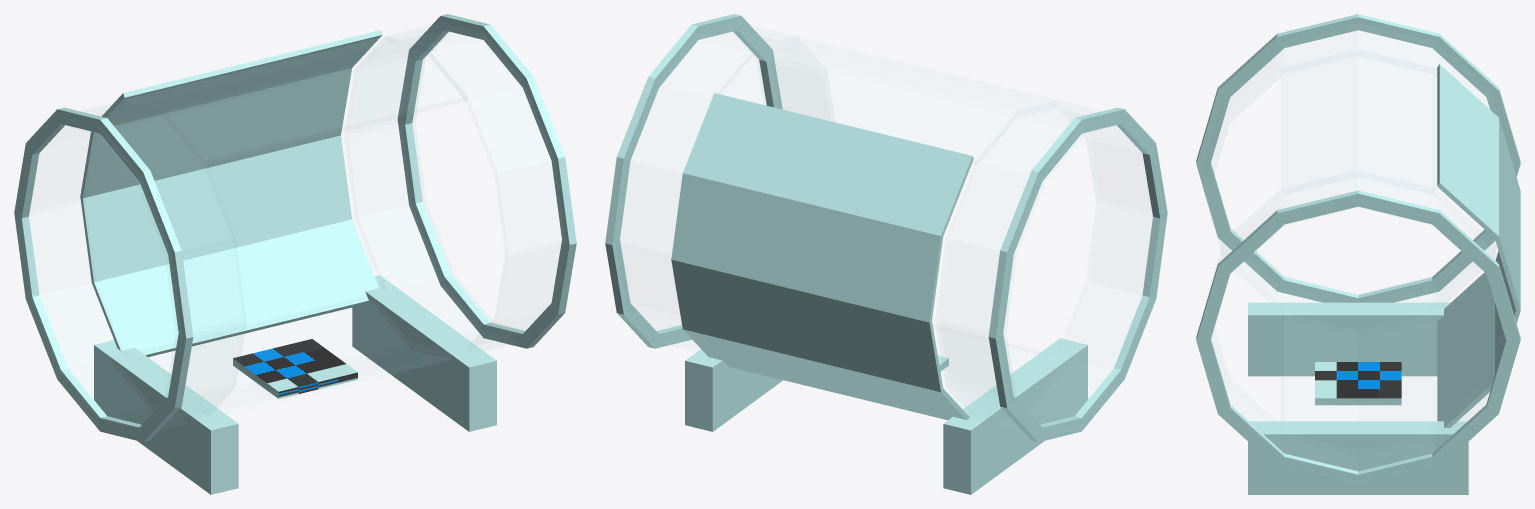
Rendered from tube_station_dispenser.glb.
3 renders of one model, left to right at view 1: azimuth 30°, elevation 25°; view 2: azimuth 150°, elevation 25°; view 3: azimuth 270°, elevation 25°, orthographic. The views are drawn at different scales.
Visible parts, largest first — view 1: Boarding_Door_back, Station_Supports, End_Rim_-0, End_Rim_0, Pod_Materializer; view 2: Boarding_Door_back, Station_Supports, End_Rim_-0, End_Rim_0; view 3: Station_Supports, Boarding_Door_back, End_Rim_0, End_Rim_-0, Pod_Materializer.
Part boxes in pixels (x1,y1,x2,y2): Boarding_Door_back: [80, 30, 382, 357]; Station_Supports: [94, 275, 496, 494]; End_Rim_-0: [14, 107, 193, 442]; End_Rim_0: [397, 14, 576, 348]; Pod_Materializer: [233, 339, 357, 398]; Boarding_Door_back: [671, 93, 973, 420]; Station_Supports: [685, 338, 1087, 494]; End_Rim_-0: [988, 107, 1167, 442]; End_Rim_0: [605, 14, 782, 348]; Station_Supports: [1248, 302, 1468, 494]; Boarding_Door_back: [1437, 64, 1520, 427]; End_Rim_0: [1196, 190, 1520, 487]; End_Rim_-0: [1196, 14, 1520, 302]; Pod_Materializer: [1315, 362, 1401, 405].
Size of what is drawn, in the model's own units: 2 by 1.66 by 1.5.
5 materials, 5 textured.
